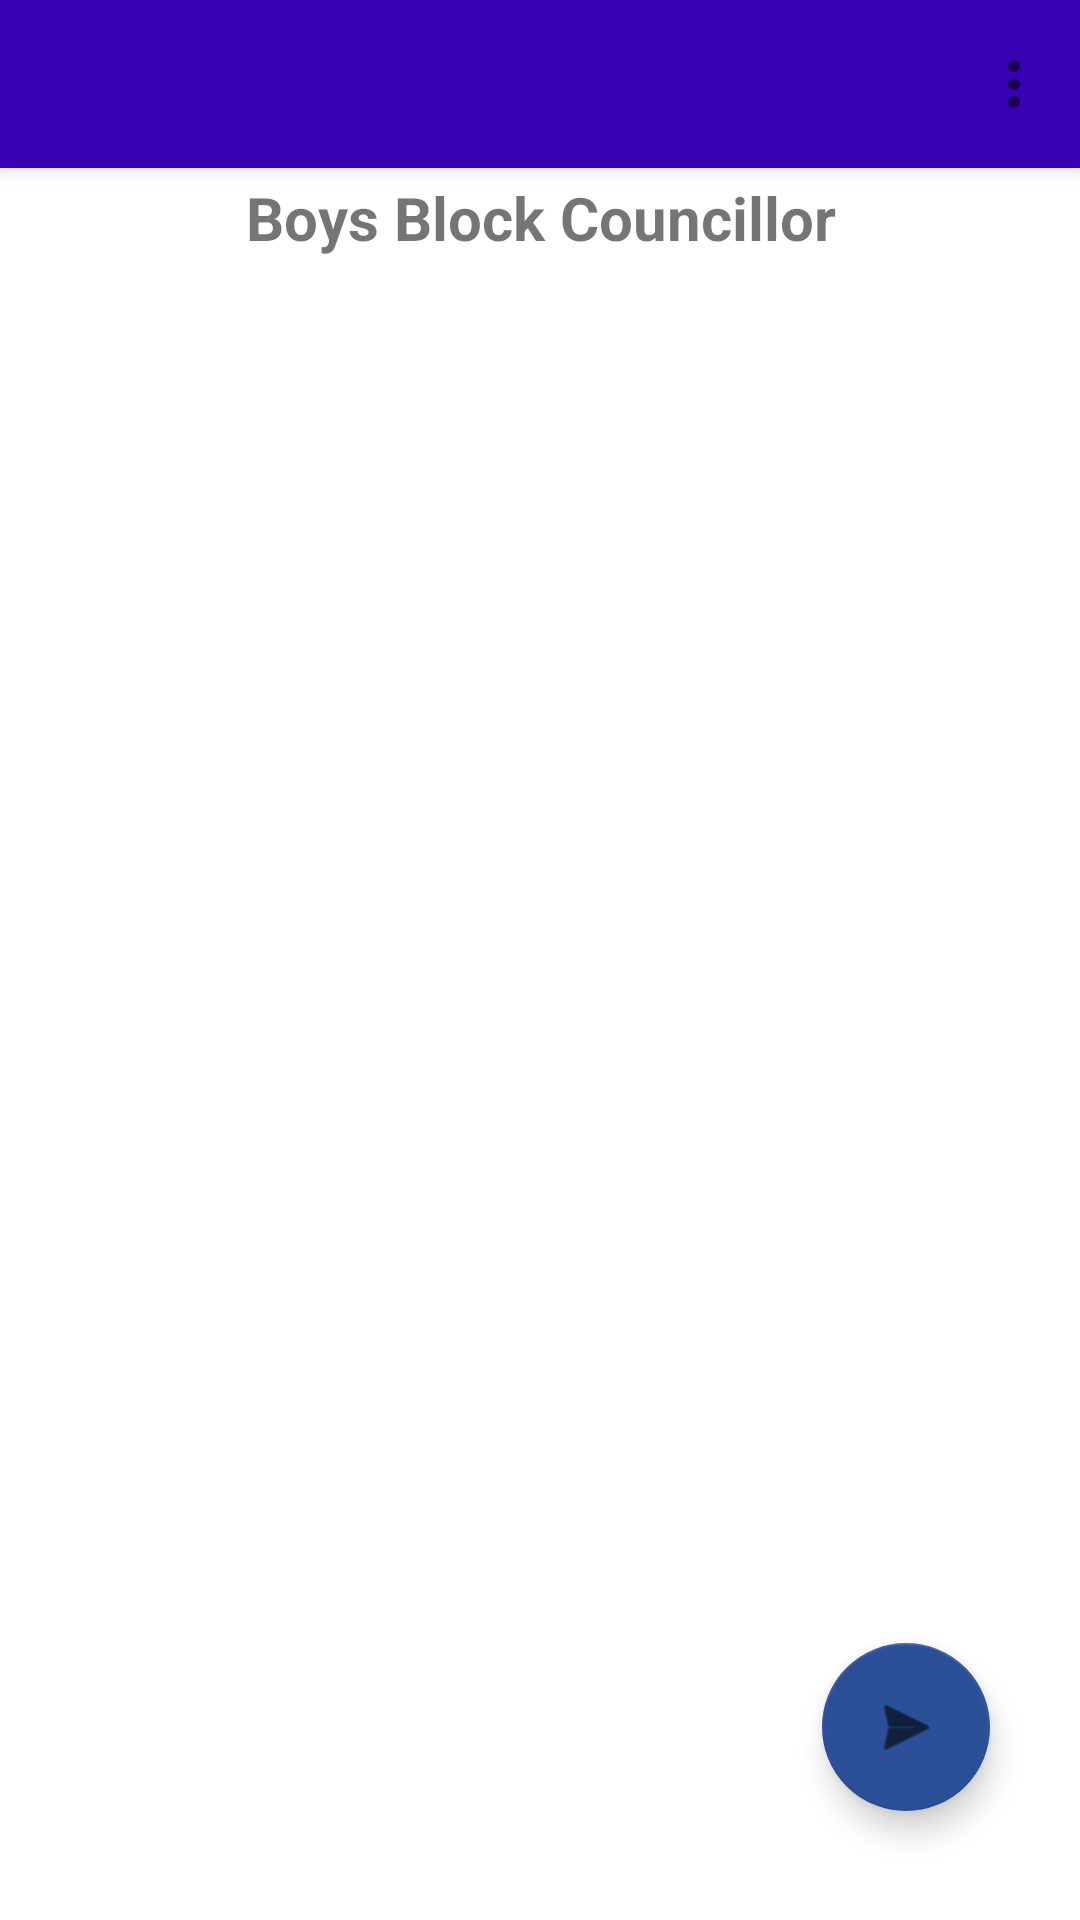

Named icons in this screenshot (1080*1920) and their bounding boxes, (x1=x1, y1=y1, x2=x2, y2=y2):
send: (x1=822, y1=1643, x2=990, y2=1811)
